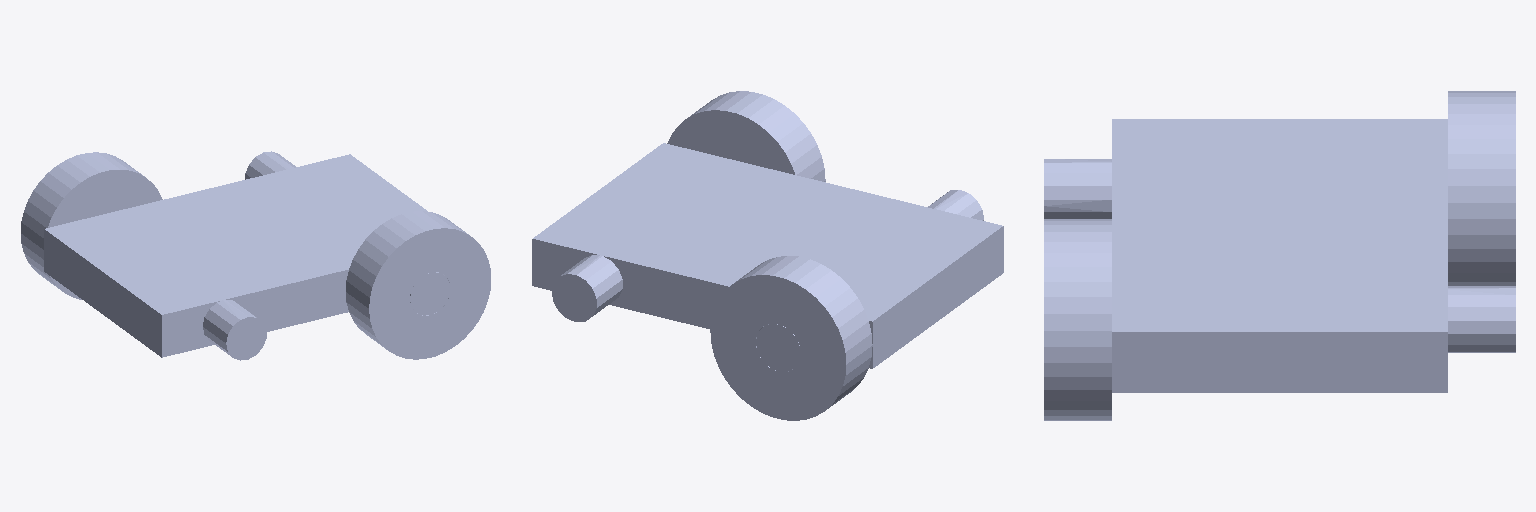
URDF robot description (igv_final):
<?xml version="1.0" encoding="utf-8"?>
<!-- This URDF was automatically created by SolidWorks to URDF Exporter! Originally created by [author] ([email redacted]) 
     Commit Version: 1.5.1-0-g916b5db  Build Version: 1.5.7152.31018
     For more information, please see http://wiki.ros.org/sw_urdf_exporter -->
<robot
  name="igv_final">
  <link
    name="base_link">
    <inertial>
      <origin
        xyz="0.0347114051526544 0.0820892496165727 0.123777607901242"
        rpy="0 0 0" />
      <mass
        value="0.325132741228718" />
      <inertia
        ixx="0.000351943944995061"
        ixy="5.1299138728878E-22"
        ixz="-8.27180612553028E-21"
        iyy="0.000955337745983216"
        iyz="-2.11758236813573E-21"
        izz="0.000624650438049591" />
    </inertial>
    <visual>
      <origin
        xyz="0 0 0"
        rpy="0 0 0" />
      <geometry>
        <mesh
          filename="package://igv_final/meshes/base_link.STL" />
      </geometry>
      <material
        name="">
        <color
          rgba="0.792156862745098 0.819607843137255 0.933333333333333 1" />
      </material>
    </visual>
    <collision>
      <origin
        xyz="0 0 0"
        rpy="0 0 0" />
      <geometry>
        <mesh
          filename="package://igv_final/meshes/base_link.STL" />
      </geometry>
    </collision>
  </link>
  <link
    name="wheel1">
    <inertial>
      <origin
        xyz="0 1.38777878078145E-17 0.00999999999999998"
        rpy="0 0 0" />
      <mass
        value="0.0502654824574367" />
      <inertia
        ixx="1.42418866962737E-05"
        ixy="-6.72929976440541E-39"
        ixz="2.82344315751433E-22"
        iyy="1.42418866962737E-05"
        iyz="-3.64261656012912E-38"
        izz="2.51327412287183E-05" />
    </inertial>
    <visual>
      <origin
        xyz="0 0 0"
        rpy="0 0 0" />
      <geometry>
        <mesh
          filename="package://igv_final/meshes/wheel1.STL" />
      </geometry>
      <material
        name="">
        <color
          rgba="0.792156862745098 0.819607843137255 0.933333333333333 1" />
      </material>
    </visual>
    <collision>
      <origin
        xyz="0 0 0"
        rpy="0 0 0" />
      <geometry>
        <mesh
          filename="package://igv_final/meshes/wheel1.STL" />
      </geometry>
    </collision>
  </link>
  <joint
    name="wheel1"
    type="continuous">
    <origin
      xyz="0.079711 -0.17378 0.082089"
      rpy="1.5708 0 0" />
    <parent
      link="base_link" />
    <child
      link="wheel1" />
    <axis
      xyz="0 0 1" />
  </joint>
  <link
    name="wheel4">
    <inertial>
      <origin
        xyz="-1.38777878078145E-17 0 0.01"
        rpy="0 0 0" />
      <mass
        value="0.0502654824574367" />
      <inertia
        ixx="1.42418866962737E-05"
        ixy="-6.72929976440553E-39"
        ixz="-3.52930394689292E-23"
        iyy="1.42418866962737E-05"
        iyz="-3.64261656012912E-38"
        izz="2.51327412287184E-05" />
    </inertial>
    <visual>
      <origin
        xyz="0 0 0"
        rpy="0 0 0" />
      <geometry>
        <mesh
          filename="package://igv_final/meshes/wheel4.STL" />
      </geometry>
      <material
        name="">
        <color
          rgba="0.792156862745098 0.819607843137255 0.933333333333333 1" />
      </material>
    </visual>
    <collision>
      <origin
        xyz="0 0 0"
        rpy="0 0 0" />
      <geometry>
        <mesh
          filename="package://igv_final/meshes/wheel4.STL" />
      </geometry>
    </collision>
  </link>
  <joint
    name="wheel4"
    type="continuous">
    <origin
      xyz="0.079711 -0.053778 0.082089"
      rpy="1.5708 0 0" />
    <parent
      link="base_link" />
    <child
      link="wheel4" />
    <axis
      xyz="0 0 1" />
  </joint>
  <link
    name="wheel2">
    <inertial>
      <origin
        xyz="1.73472347597681E-18 1.38777878078145E-17 0.00999999999999998"
        rpy="0 0 0" />
      <mass
        value="0.0502654824574367" />
      <inertia
        ixx="1.42418866962737E-05"
        ixy="-6.72929976440541E-39"
        ixz="2.82344315751433E-22"
        iyy="1.42418866962737E-05"
        iyz="-3.64261656012912E-38"
        izz="2.51327412287183E-05" />
    </inertial>
    <visual>
      <origin
        xyz="0 0 0"
        rpy="0 0 0" />
      <geometry>
        <mesh
          filename="package://igv_final/meshes/wheel2.STL" />
      </geometry>
      <material
        name="">
        <color
          rgba="0.792156862745098 0.819607843137255 0.933333333333333 1" />
      </material>
    </visual>
    <collision>
      <origin
        xyz="0 0 0"
        rpy="0 0 0" />
      <geometry>
        <mesh
          filename="package://igv_final/meshes/wheel2.STL" />
      </geometry>
    </collision>
  </link>
  <joint
    name="wheel2"
    type="continuous">
    <origin
      xyz="-0.010289 -0.17378 0.082089"
      rpy="1.5708 0 0" />
    <parent
      link="base_link" />
    <child
      link="wheel2" />
    <axis
      xyz="0 0 1" />
  </joint>
  <link
    name="wheel3">
    <inertial>
      <origin
        xyz="-1.73472347597681E-18 0 0.01"
        rpy="0 0 0" />
      <mass
        value="0.0502654824574367" />
      <inertia
        ixx="1.42418866962737E-05"
        ixy="-6.72929976440553E-39"
        ixz="-3.52930394689292E-23"
        iyy="1.42418866962737E-05"
        iyz="-3.64261656012912E-38"
        izz="2.51327412287184E-05" />
    </inertial>
    <visual>
      <origin
        xyz="0 0 0"
        rpy="0 0 0" />
      <geometry>
        <mesh
          filename="package://igv_final/meshes/wheel3.STL" />
      </geometry>
      <material
        name="">
        <color
          rgba="0.792156862745098 0.819607843137255 0.933333333333333 1" />
      </material>
    </visual>
    <collision>
      <origin
        xyz="0 0 0"
        rpy="0 0 0" />
      <geometry>
        <mesh
          filename="package://igv_final/meshes/wheel3.STL" />
      </geometry>
    </collision>
  </link>
  <joint
    name="wheel3"
    type="continuous">
    <origin
      xyz="-0.010289 -0.053778 0.082089"
      rpy="1.5708 0 0" />
    <parent
      link="base_link" />
    <child
      link="wheel3" />
    <axis
      xyz="0 0 1" />
  </joint>
</robot>

--- Facts derived from the render (not from the file) ---
The picture shows the robot from 3 angles, left to right: view 1: azimuth 30°, elevation 25°; view 2: azimuth 150°, elevation 25°; view 3: azimuth 270°, elevation 25°; orthographic projection.
Model igv_final with 5 links and 4 joints (4 continuous), rooted at base_link, posed all joints at 0.
Links seen in each view (by area): view 1: base_link, wheel1, wheel3; view 2: base_link, wheel3, wheel1; view 3: base_link, wheel1, wheel3.
Boxes of the visible links, x1,y1,x2,y2 form: base_link: [44, 151, 450, 360]; wheel1: [346, 211, 490, 359]; wheel3: [21, 152, 162, 299]; base_link: [532, 143, 1003, 371]; wheel3: [710, 256, 872, 420]; wheel1: [667, 91, 825, 181]; base_link: [1044, 119, 1515, 392]; wheel1: [1044, 219, 1111, 420]; wheel3: [1448, 91, 1515, 285].
Size in the robot's own frame: 0.15 by 0.14 by 0.0598 metres.
Meshes: 5 distinct files referenced, 3 mesh visuals loaded (3 binary STL); not drawn: 2 (reference not matched to a file when rendering).